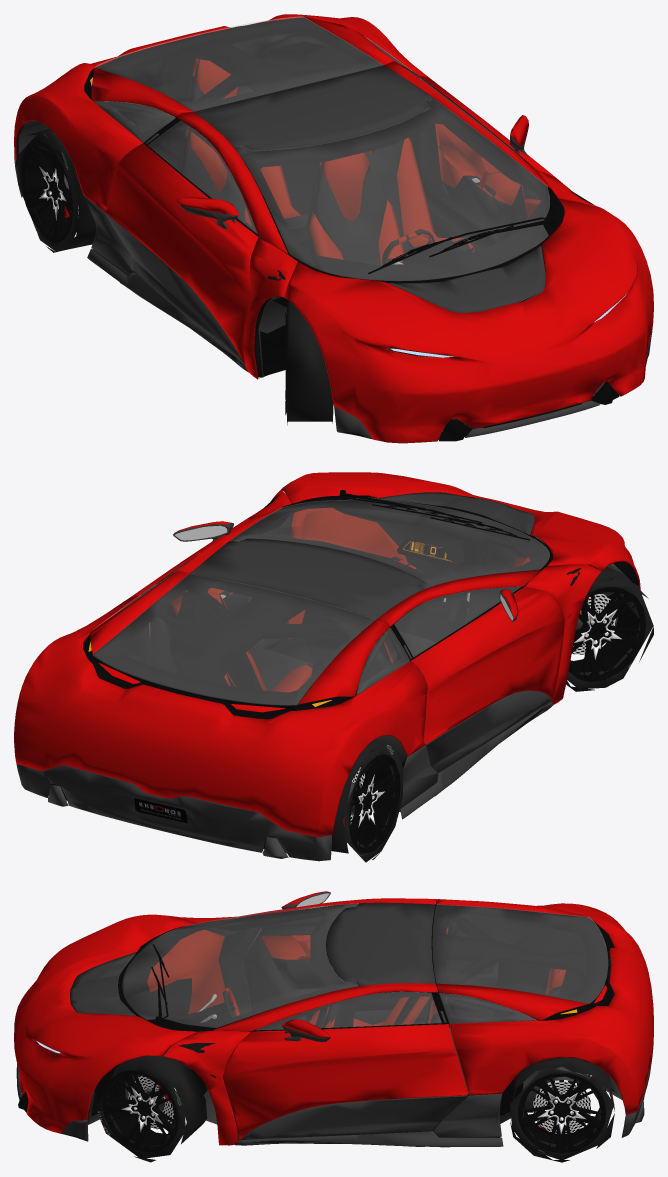
The model's file is CarConcept-lowest.glb.
3 views of the same model, one above another, from view 1: azimuth 30°, elevation 25°; view 2: azimuth 150°, elevation 25°; view 3: azimuth 270°, elevation 25° (orthographic). The views are drawn at different scales.
Visible parts, largest first — view 1: BodyHood, BodyWindshield, BodyRearwindow, BodyDoorRColor1, BodyRearPanelsColor1, BodyRoofPanel, BodyWindshieldGasket, InteriorSeatsColor1, InteriorSeatsColor2, BodyPillars, object 84, InteriorPillar (+21 smaller); view 2: BodyRearPanelsColor1, BodyRearwindow, BodyWindshield, BodyDoorRColor1, BodyPanelsColor2, BodyRoofPanel, BodyHood, InteriorRearHatch, BodyPillars, InteriorPillar, InteriorDashMid, BodyWindshieldGasket (+21 smaller); view 3: BodyRearPanelsColor1, BodyWindshield, BodyDoorLColor1, BodyHood, BodyRearwindow, BodyRoofPanel, object 84, BodyPillars, BodyWindshieldGasket, BodyDoorLColor2, BodyPanelsColor2, InteriorRearHatch (+25 smaller).
Boxes of the visible parts, bbox=[...] form: BodyHood: bbox=[284, 199, 653, 443]; BodyWindshield: bbox=[234, 98, 549, 280]; BodyRearwindow: bbox=[95, 16, 382, 111]; BodyDoorRColor1: bbox=[104, 143, 258, 363]; BodyRearPanelsColor1: bbox=[14, 14, 431, 211]; BodyRoofPanel: bbox=[194, 65, 432, 150]; BodyWindshieldGasket: bbox=[234, 99, 564, 283]; InteriorSeatsColor1: bbox=[186, 58, 474, 264]; InteriorSeatsColor2: bbox=[180, 78, 472, 264]; BodyPillars: bbox=[176, 61, 600, 379]; object 84: bbox=[18, 128, 332, 425]; InteriorPillar: bbox=[160, 37, 433, 169]; BodyRearPanelsColor1: bbox=[14, 571, 427, 837]; BodyRearwindow: bbox=[93, 574, 375, 705]; BodyWindshield: bbox=[230, 498, 549, 588]; BodyDoorRColor1: bbox=[411, 586, 564, 744]; BodyPanelsColor2: bbox=[15, 701, 553, 861]; BodyRoofPanel: bbox=[190, 538, 424, 619]; BodyHood: bbox=[280, 472, 640, 590]; InteriorRearHatch: bbox=[93, 574, 374, 711]; BodyPillars: bbox=[176, 490, 601, 704]; InteriorPillar: bbox=[174, 575, 419, 700]; InteriorDashMid: bbox=[333, 503, 527, 623]; BodyWindshieldGasket: bbox=[231, 497, 552, 588]; BodyRearPanelsColor1: bbox=[436, 899, 653, 1114]; BodyWindshield: bbox=[122, 903, 358, 1027]; BodyDoorLColor1: bbox=[223, 1024, 467, 1139]; BodyHood: bbox=[14, 914, 196, 1133]; BodyRearwindow: bbox=[432, 904, 607, 1003]; BodyRoofPanel: bbox=[326, 902, 435, 986]; object 84: bbox=[94, 1053, 614, 1162]; BodyPillars: bbox=[163, 898, 438, 1145]; BodyWindshieldGasket: bbox=[118, 904, 358, 1031]; BodyDoorLColor2: bbox=[240, 1095, 467, 1139]; BodyPanelsColor2: bbox=[16, 1052, 652, 1147]; InteriorRearHatch: bbox=[432, 904, 607, 1020].
Size of the model in its own units: 2.54 by 1.15 by 4.36.
23 materials, 6 textured.
